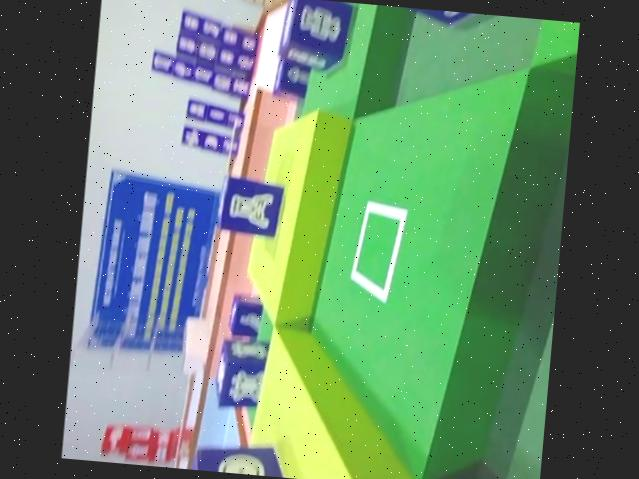R2 Real Blue: (277, 0, 356, 74), (216, 171, 287, 237), (212, 332, 272, 407), (187, 438, 297, 478), (226, 292, 265, 344)
